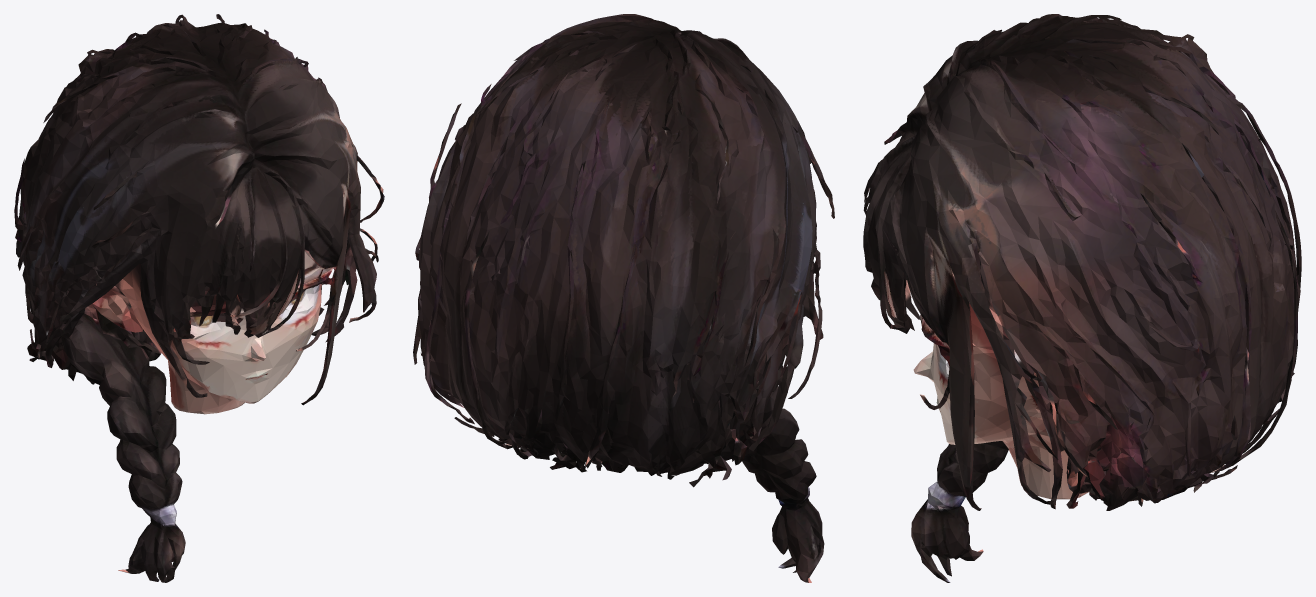
File: side_kiku_repaired_atlas.glb
The picture shows the model from 3 angles, left to right: view 1: azimuth 30°, elevation 25°; view 2: azimuth 150°, elevation 25°; view 3: azimuth 270°, elevation 25°; orthographic projection. The views are drawn at different scales.
Visible parts, largest first — view 1: temp_mesh.ply; view 2: temp_mesh.ply; view 3: temp_mesh.ply.
Part boxes in pixels (x1,y1,x2,y2): temp_mesh.ply: (14, 14, 384, 582); temp_mesh.ply: (413, 14, 834, 582); temp_mesh.ply: (863, 14, 1301, 582).
Bounding box in the file's own units: 1.42 × 1.97 × 1.32.
1 material, 1 textured.
